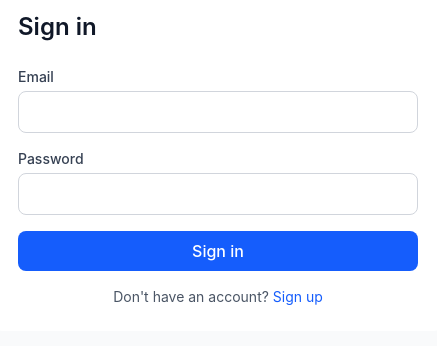
Test: LoginPage › shows invalid email error when email format is wrong
The image size is (437, 346).
Type "not-an-email" into the field labelled "Email" at (218, 112), box [18,91,418,133]
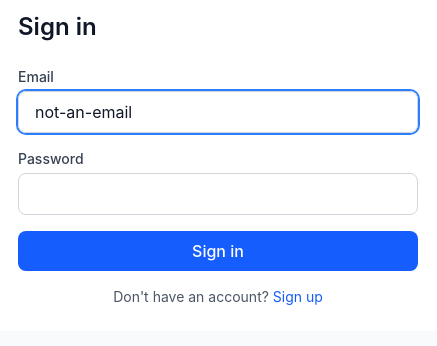
Type "password123" into the password field labelled "Password" at (218, 194), box [18,173,418,215]
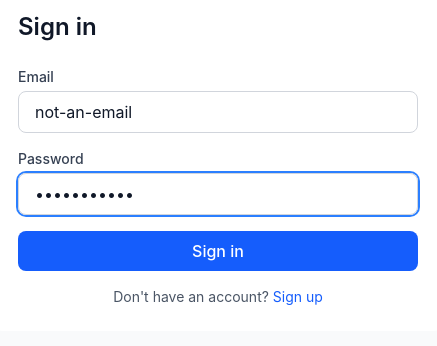
Click the button "Sign in" at (218, 251), box [18,231,418,271]
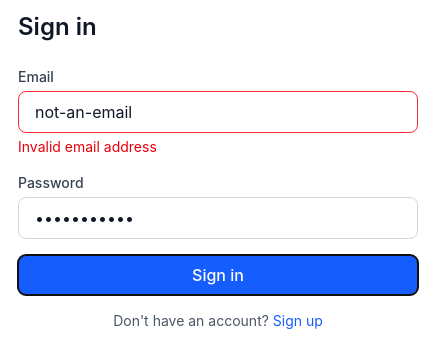
Expected: the text "Invalid email address" is shown, [18,138,157,155]
